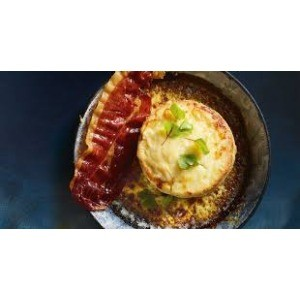cheese_brain food: (139, 125, 240, 187)
